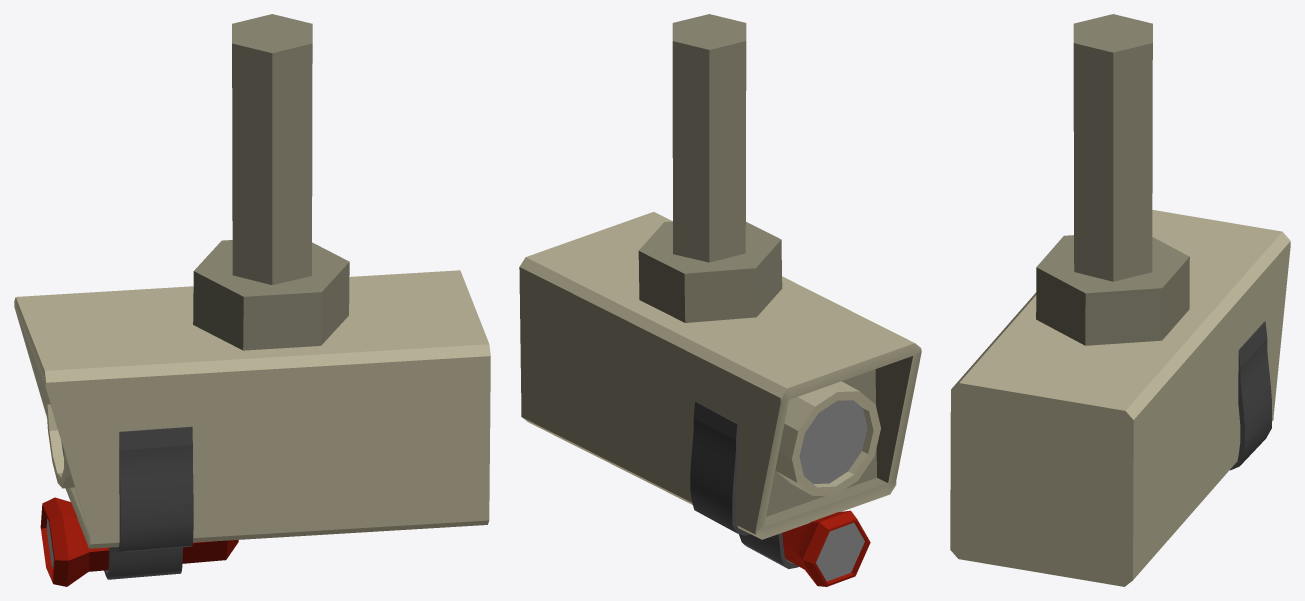
Rendered from camra.fbx.
3 views of the same model, side by side, from view 1: azimuth 30°, elevation 25°; view 2: azimuth 150°, elevation 25°; view 3: azimuth 270°, elevation 25° (orthographic). The views are drawn at different scales.
Visible parts, largest first — view 1: camra_body, stick1, tape, flashlight, camra_eye; view 2: camra_body, stick1, camra_eye, tape, flashlight; view 3: camra_body, stick1, tape.
Boxes of the visible parts, left/top/right/bottom form: camra_body: left=14, top=270, right=490, bottom=548; stick1: left=193, top=14, right=349, bottom=350; tape: left=104, top=426, right=193, bottom=579; flashlight: left=40, top=497, right=238, bottom=586; camra_eye: left=46, top=390, right=74, bottom=488; camra_body: left=519, top=211, right=921, bottom=539; stick1: left=638, top=14, right=782, bottom=322; camra_eye: left=775, top=381, right=880, bottom=496; tape: left=690, top=402, right=798, bottom=569; flashlight: left=782, top=510, right=870, bottom=586; camra_body: left=950, top=210, right=1290, bottom=586; stick1: left=1036, top=14, right=1189, bottom=345; tape: left=1230, top=321, right=1271, bottom=470.
Size of the model in its own units: 2.48 by 2.94 by 1.74.
1 material, 1 textured.
